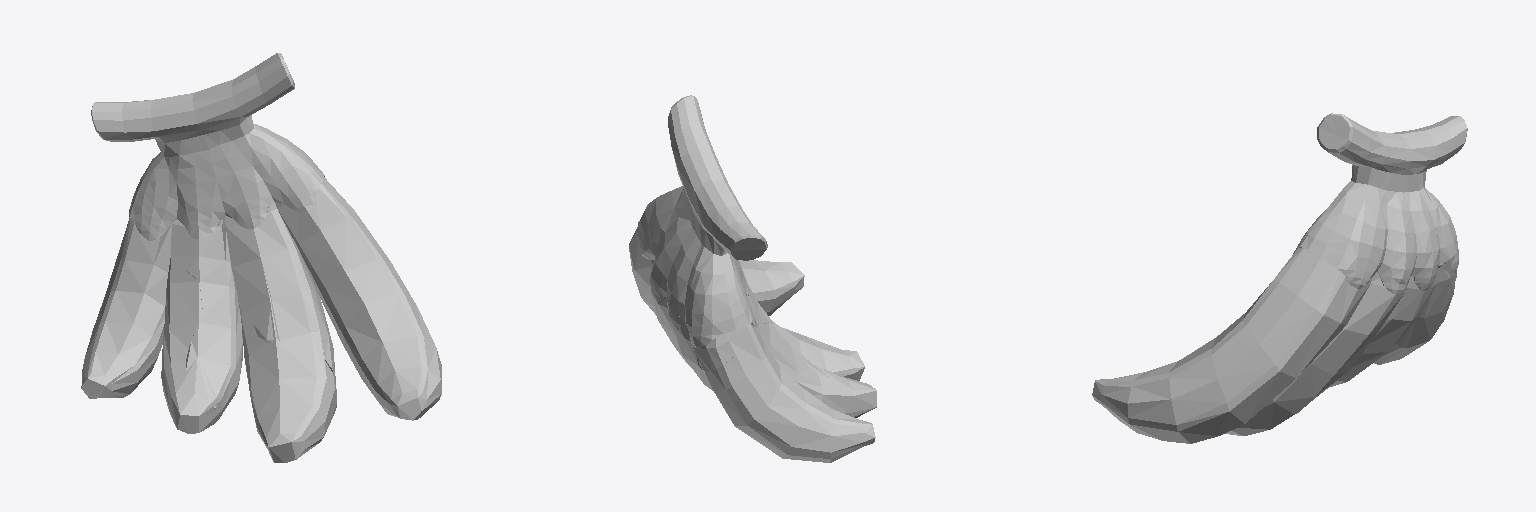
File: baya_latano.obj
3 renders of one model, left to right at view 1: azimuth 30°, elevation 25°; view 2: azimuth 150°, elevation 25°; view 3: azimuth 270°, elevation 25°, orthographic.
Visible parts, largest first — view 1: ob0502_00_fruits00Skin_vis.001, ob0502_00_leavesSkin_vis.001, ob0502_00_fruits02Skin_vis.001, ob0502_00_fruits01Skin_vis.001; view 2: ob0502_00_fruits00Skin_vis.001, ob0502_00_leavesSkin_vis.001, ob0502_00_fruits01Skin_vis.001; view 3: ob0502_00_fruits00Skin_vis.001, ob0502_00_leavesSkin_vis.001.
Boxes of the visible parts, x1=… form: ob0502_00_fruits00Skin_vis.001: x1=81, y1=177, x2=441, y2=462; ob0502_00_leavesSkin_vis.001: x1=91, y1=53, x2=324, y2=240; ob0502_00_fruits02Skin_vis.001: x1=235, y1=249, x2=332, y2=371; ob0502_00_fruits01Skin_vis.001: x1=186, y1=211, x2=429, y2=431; ob0502_00_fruits00Skin_vis.001: x1=629, y1=227, x2=876, y2=462; ob0502_00_leavesSkin_vis.001: x1=637, y1=95, x2=767, y2=348; ob0502_00_fruits01Skin_vis.001: x1=677, y1=306, x2=847, y2=379; ob0502_00_fruits00Skin_vis.001: x1=1092, y1=248, x2=1455, y2=443; ob0502_00_leavesSkin_vis.001: x1=1293, y1=113, x2=1467, y2=294.
Size of the model in its own units: 3.64 by 4.12 by 4.19.